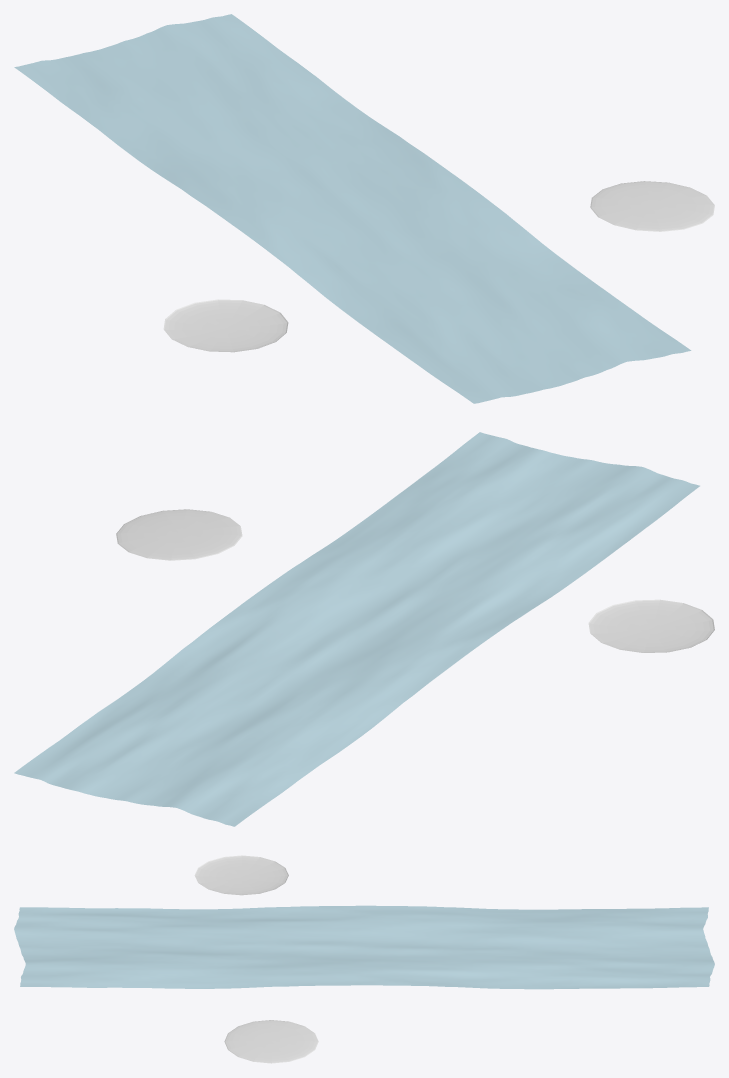
Rendered from planos_agua.fbx.
The picture shows the model from 3 angles, top to bottom: view 1: azimuth 30°, elevation 25°; view 2: azimuth 150°, elevation 25°; view 3: azimuth 270°, elevation 25°; orthographic projection. The views are drawn at different scales.
Visible parts, largest first — view 1: Arena.001, Sphere, Sphere.005; view 2: Arena.001, Sphere, Sphere.005; view 3: Arena.001, Sphere.005, Sphere.
Part boxes in pixels (x1,y1,x2,y2): Arena.001: (14, 14, 691, 403); Sphere: (163, 299, 288, 352); Sphere.005: (590, 181, 714, 231); Arena.001: (14, 432, 699, 826); Sphere: (588, 599, 714, 652); Sphere.005: (116, 509, 242, 560); Arena.001: (14, 905, 714, 989); Sphere.005: (224, 1020, 318, 1063); Sphere: (194, 855, 288, 895).
Bounding box in the file's own units: 20204 × 556 × 29471.
